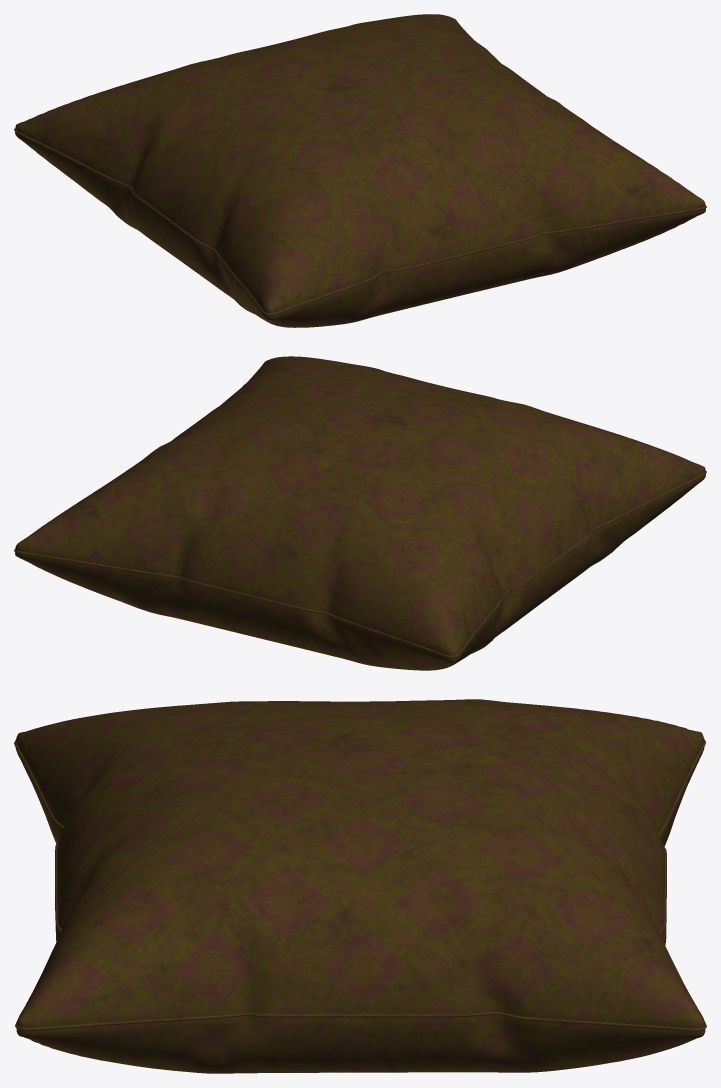
File: Foyer_pillow_01.glb
3 renders of one model, top to bottom at view 1: azimuth 30°, elevation 25°; view 2: azimuth 150°, elevation 25°; view 3: azimuth 270°, elevation 25°, orthographic. The views are drawn at different scales.
Visible parts, largest first — view 1: Pillow; view 2: Pillow; view 3: Pillow.
Boxes of the visible parts, x1,y1,x2,y2 form: Pillow: (14, 14, 706, 327); Pillow: (14, 356, 706, 670); Pillow: (14, 699, 706, 1073).
Size of the model in its own units: 0.6 by 0.2 by 0.6.
1 material, 1 textured.
